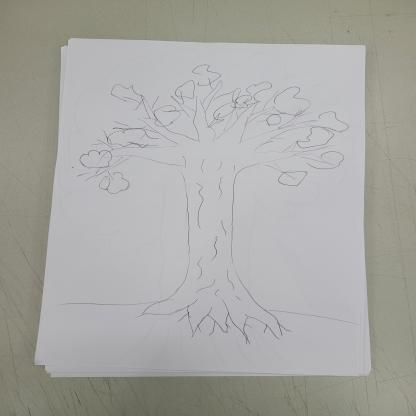branch_sharp: (93, 74, 340, 188)
root_upside: (135, 288, 293, 346)
trunk_bark: (174, 185, 245, 279)
